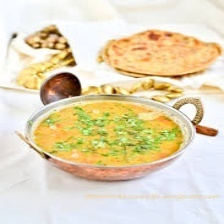roti: (100, 28, 222, 77)
